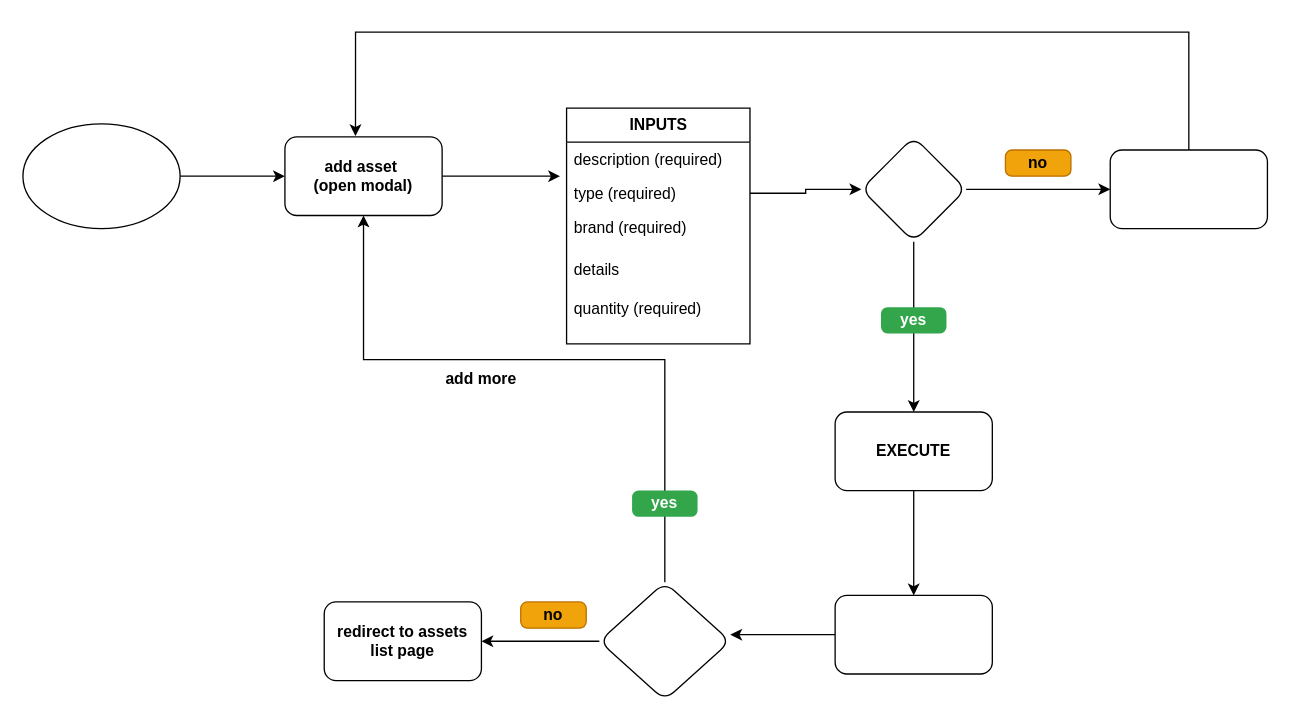
This 1290x723 diagram has some shape labels left out. The shapes that lost their labels are listed below. From the top down, each one's centre as x and y in pixels, then its label:
(x=913, y=189): validate?
(x=1188, y=189): alert "failed, preencher required"
(x=664, y=640): add more?
(x=913, y=634): message "success"
